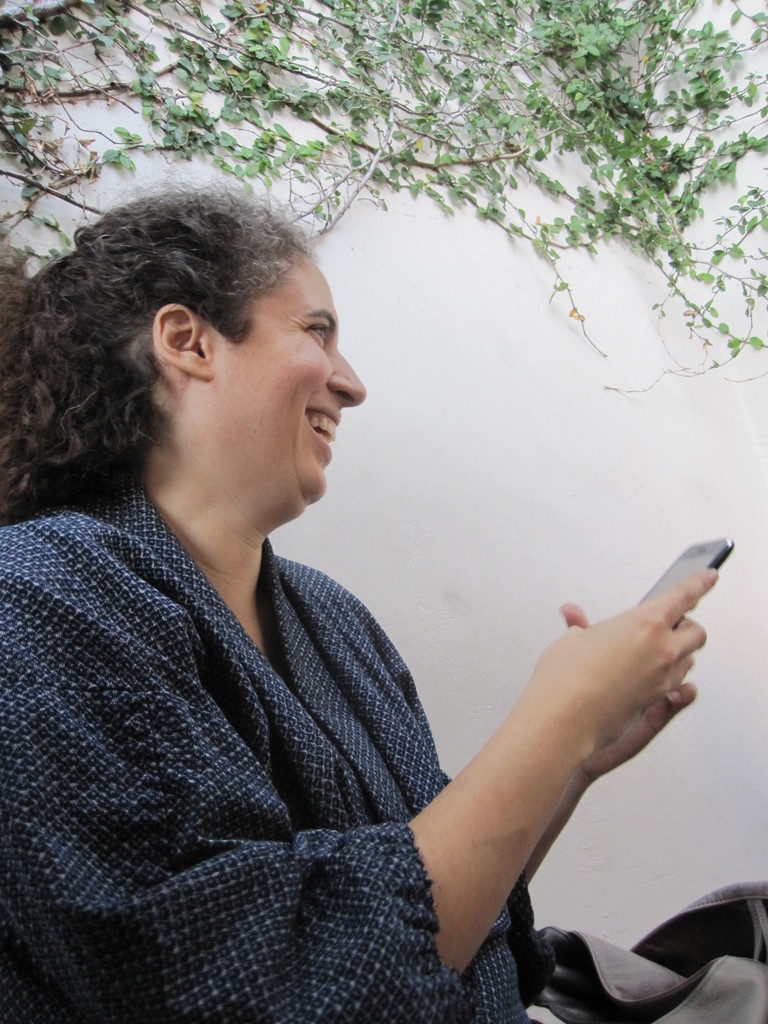Mobile-phone: (633, 540, 734, 620)
